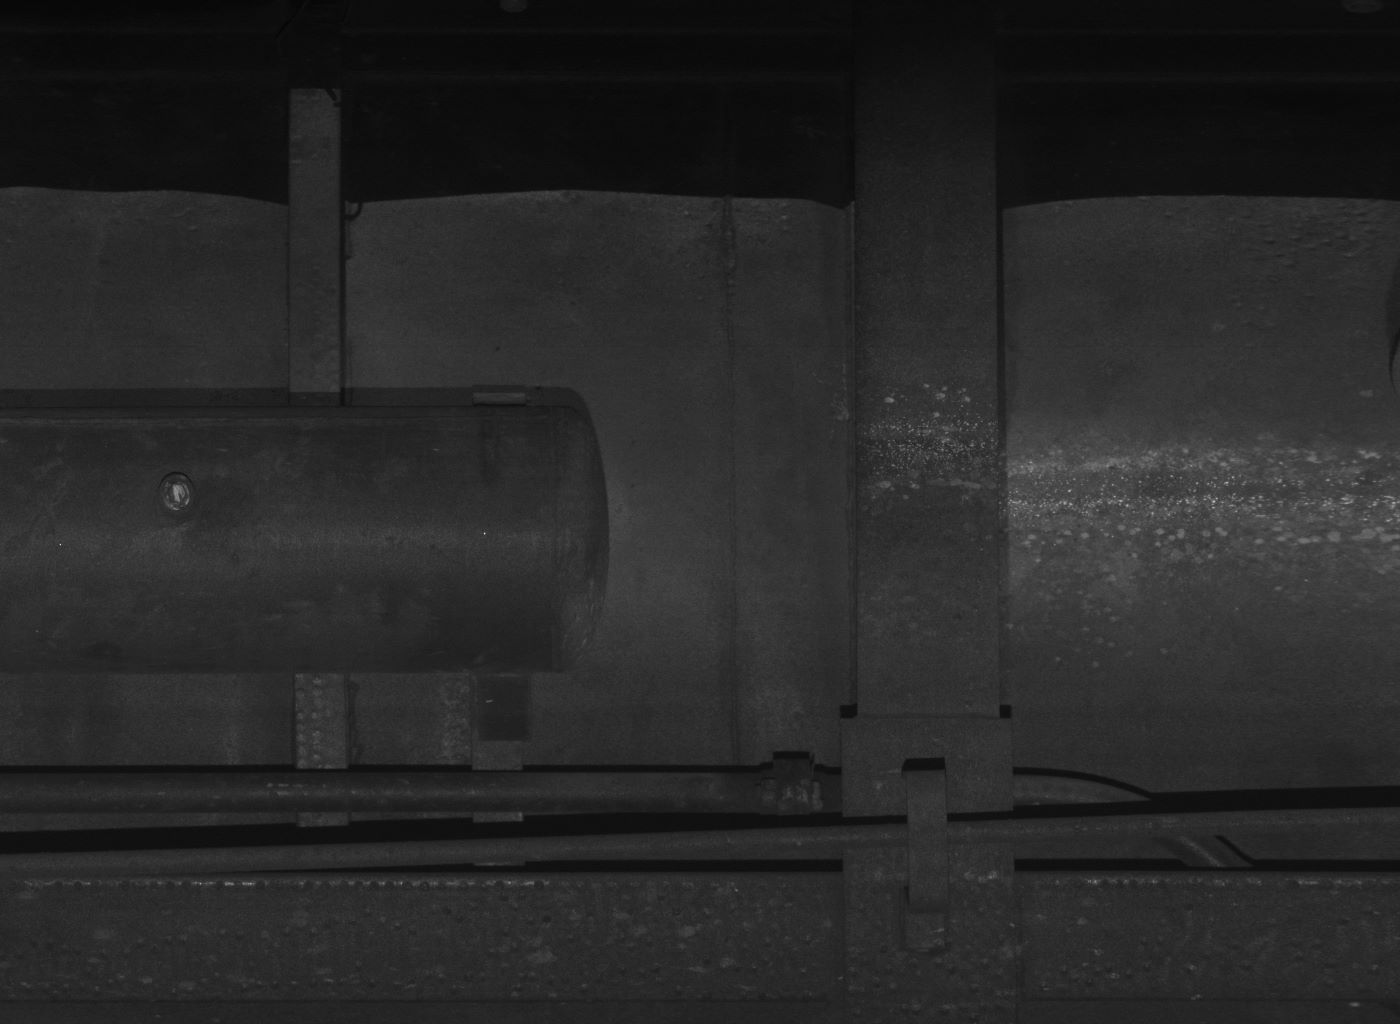normal: (905, 767, 949, 953)
